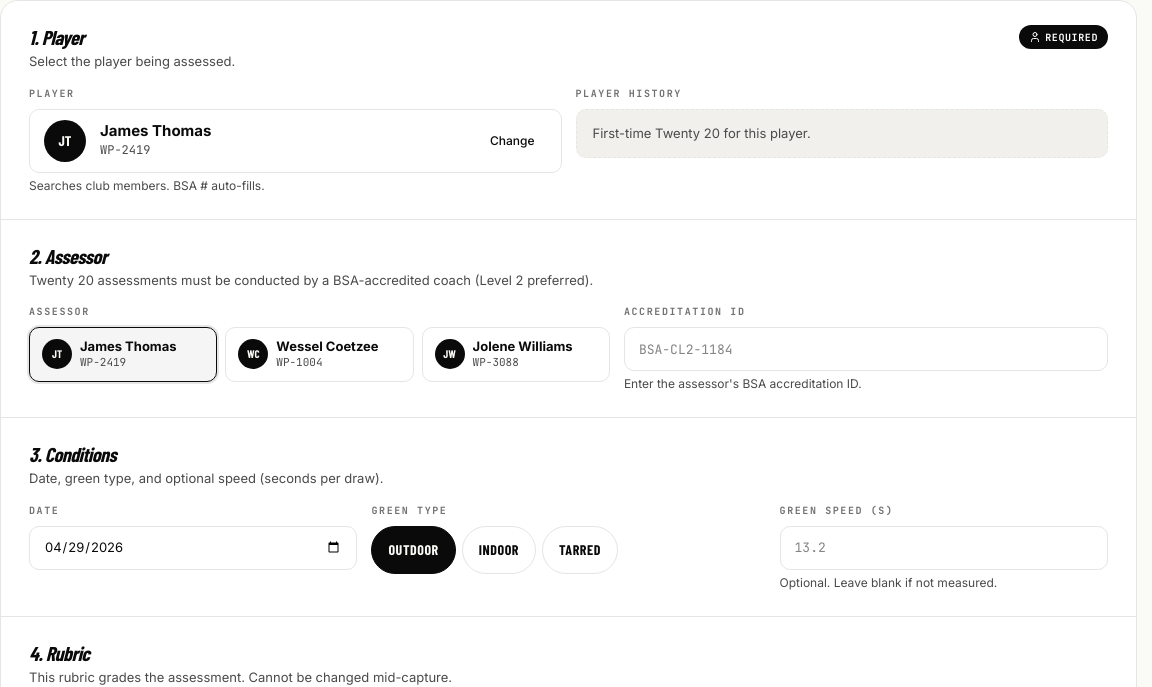
Test: <NewAssessmentForm /> — empty-assessments-but-has-members path › switching to another first-time player keeps the history sidebar in the first-time state
What coordinates should you click on to do the following:
click the button "Change"
I would click on:
 (512, 140)
Its box is [478, 122, 546, 158].
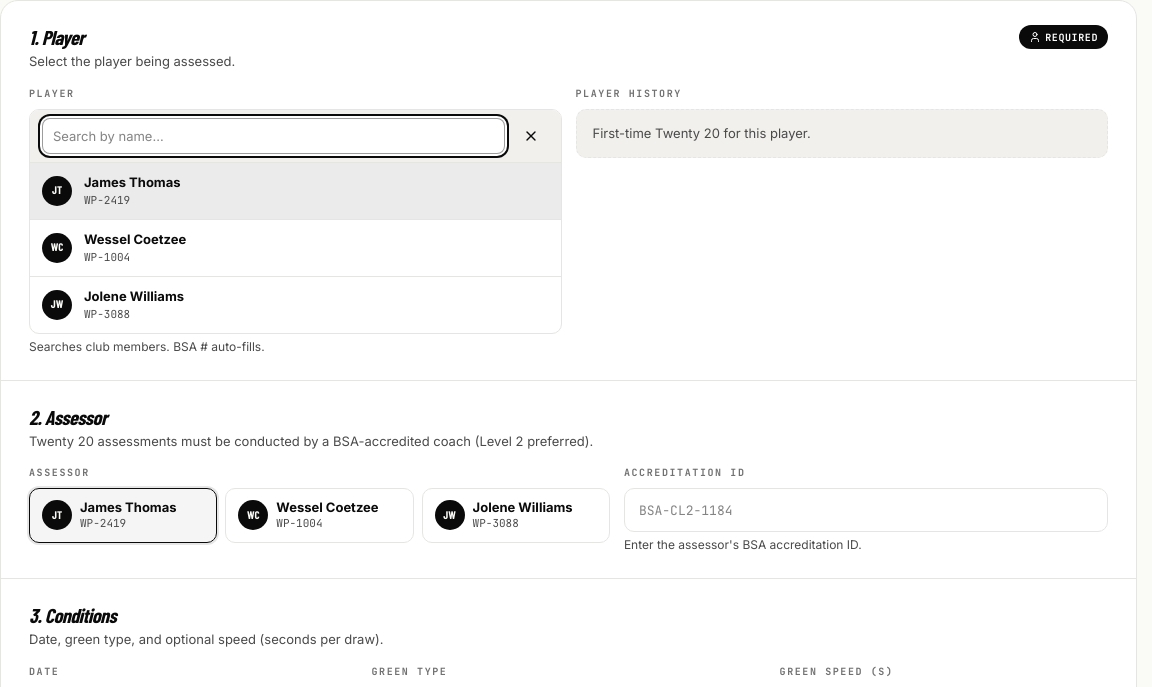
What coordinates should you click on to do the following:
click the button "JW Jolene Williams WP-3088" below "First-time Twenty 20 for this player."
I would click on:
 (134, 296)
Its box is [30, 276, 560, 332].
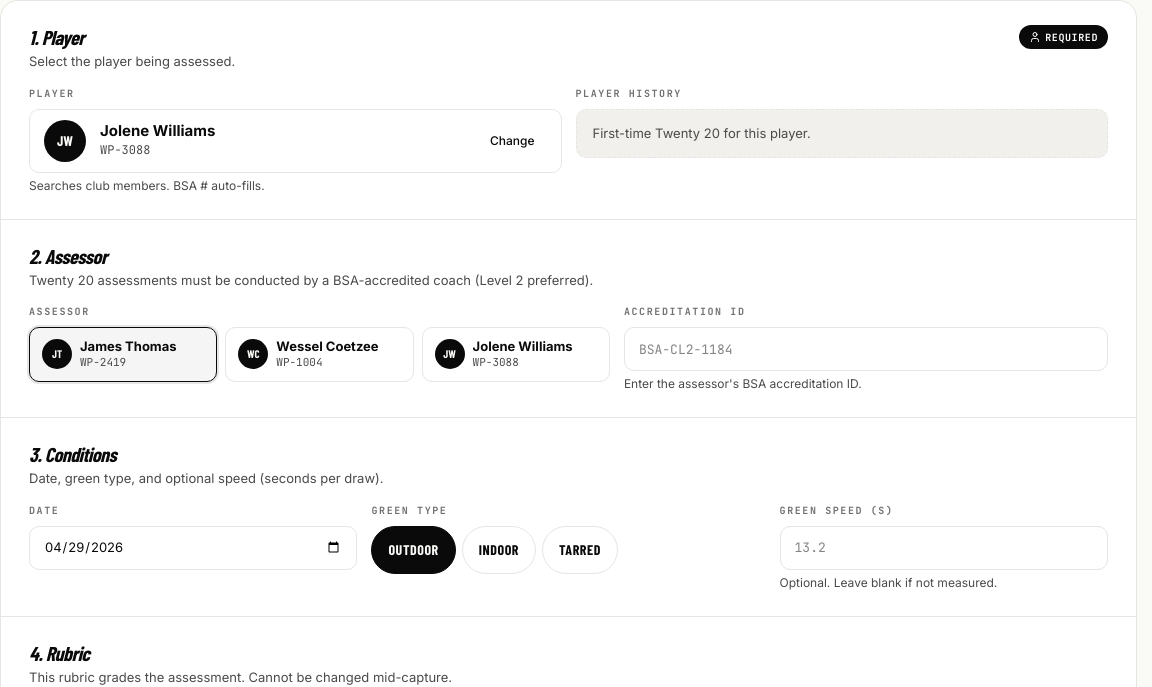
Expected: the text "First-time Twenty 20 for this player." is shown, [592, 124, 811, 140]
Result: the element showing "JW Jolene Williams WP-3088 Change" is shown at [29, 108, 562, 172]
